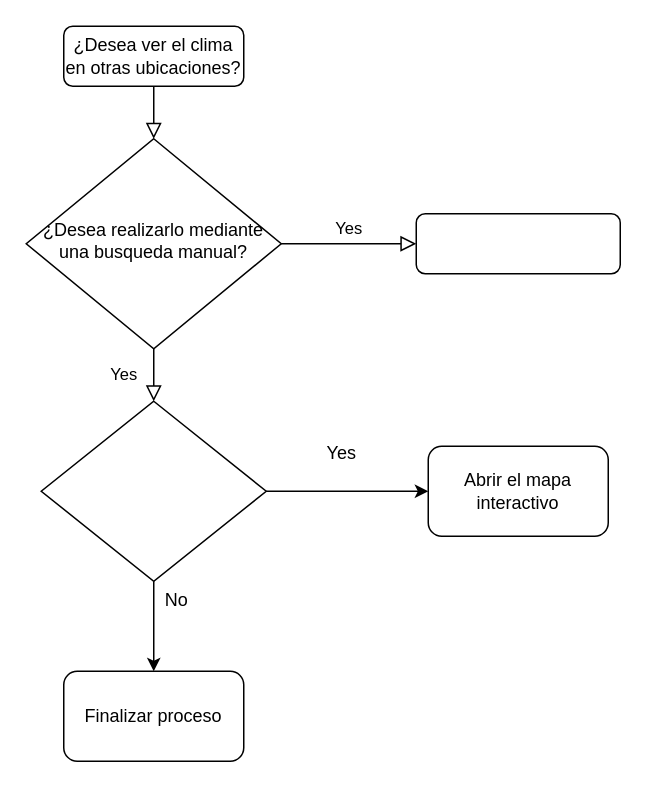
The diagram is 647 pixels wide and 788 high, and some of its shapes have lost their labels. The centre of each missing label's shape, as x and y in pixels:
Abrir el panel de busqueda y opciones de ubicaciones: the point at 517,243
¿Quieres realizarlo mediante el mapa interactivo?: the point at 153,490
